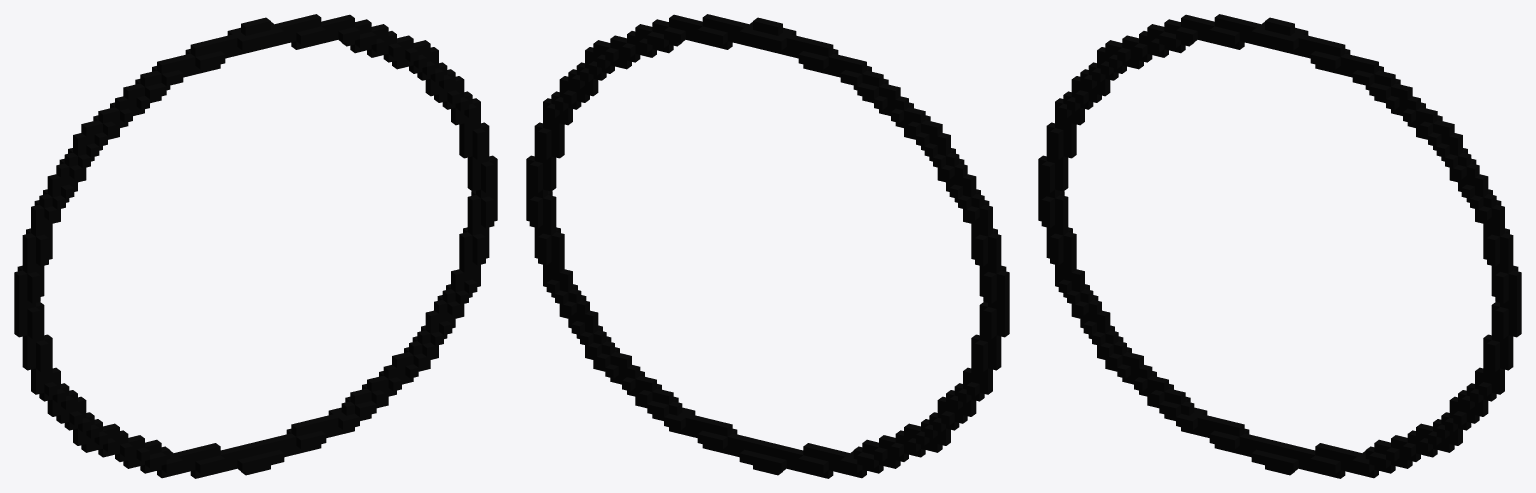
File: Lantern_Handle.obj
3 renders of one model, left to right at view 1: azimuth 30°, elevation 25°; view 2: azimuth 150°, elevation 25°; view 3: azimuth 330°, elevation 25°, orthographic.
Visible parts, largest first — view 1: 円; view 2: 円; view 3: 円.
Boxes of the visible parts, x1,y1,x2,y2 form: 円: [14, 14, 497, 478]; 円: [526, 14, 1009, 478]; 円: [1038, 14, 1521, 478].
Size of the model in its own units: 0.8906 by 0.7969 by 0.0469.
1 material, 1 textured.
